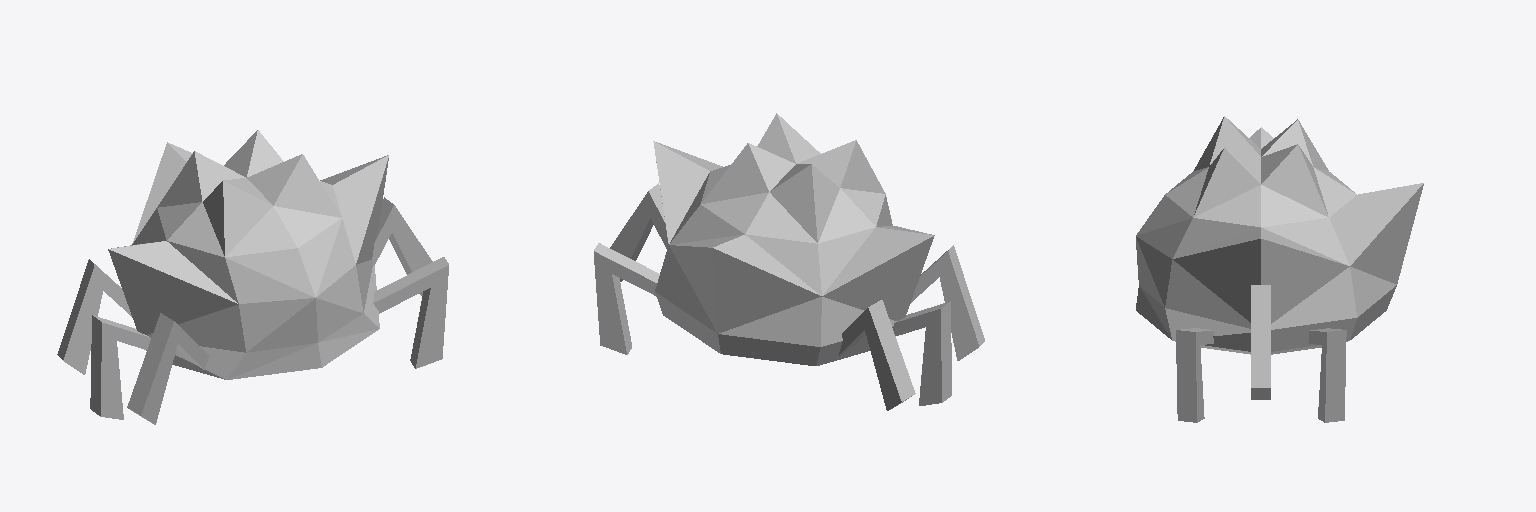
File: neon_tick_1.obj
The picture shows the model from 3 angles: view 1: azimuth 30°, elevation 25°; view 2: azimuth 150°, elevation 25°; view 3: azimuth 270°, elevation 25°; orthographic projection.
Size of the model in its own units: 1.45 by 0.9568 by 1.06.